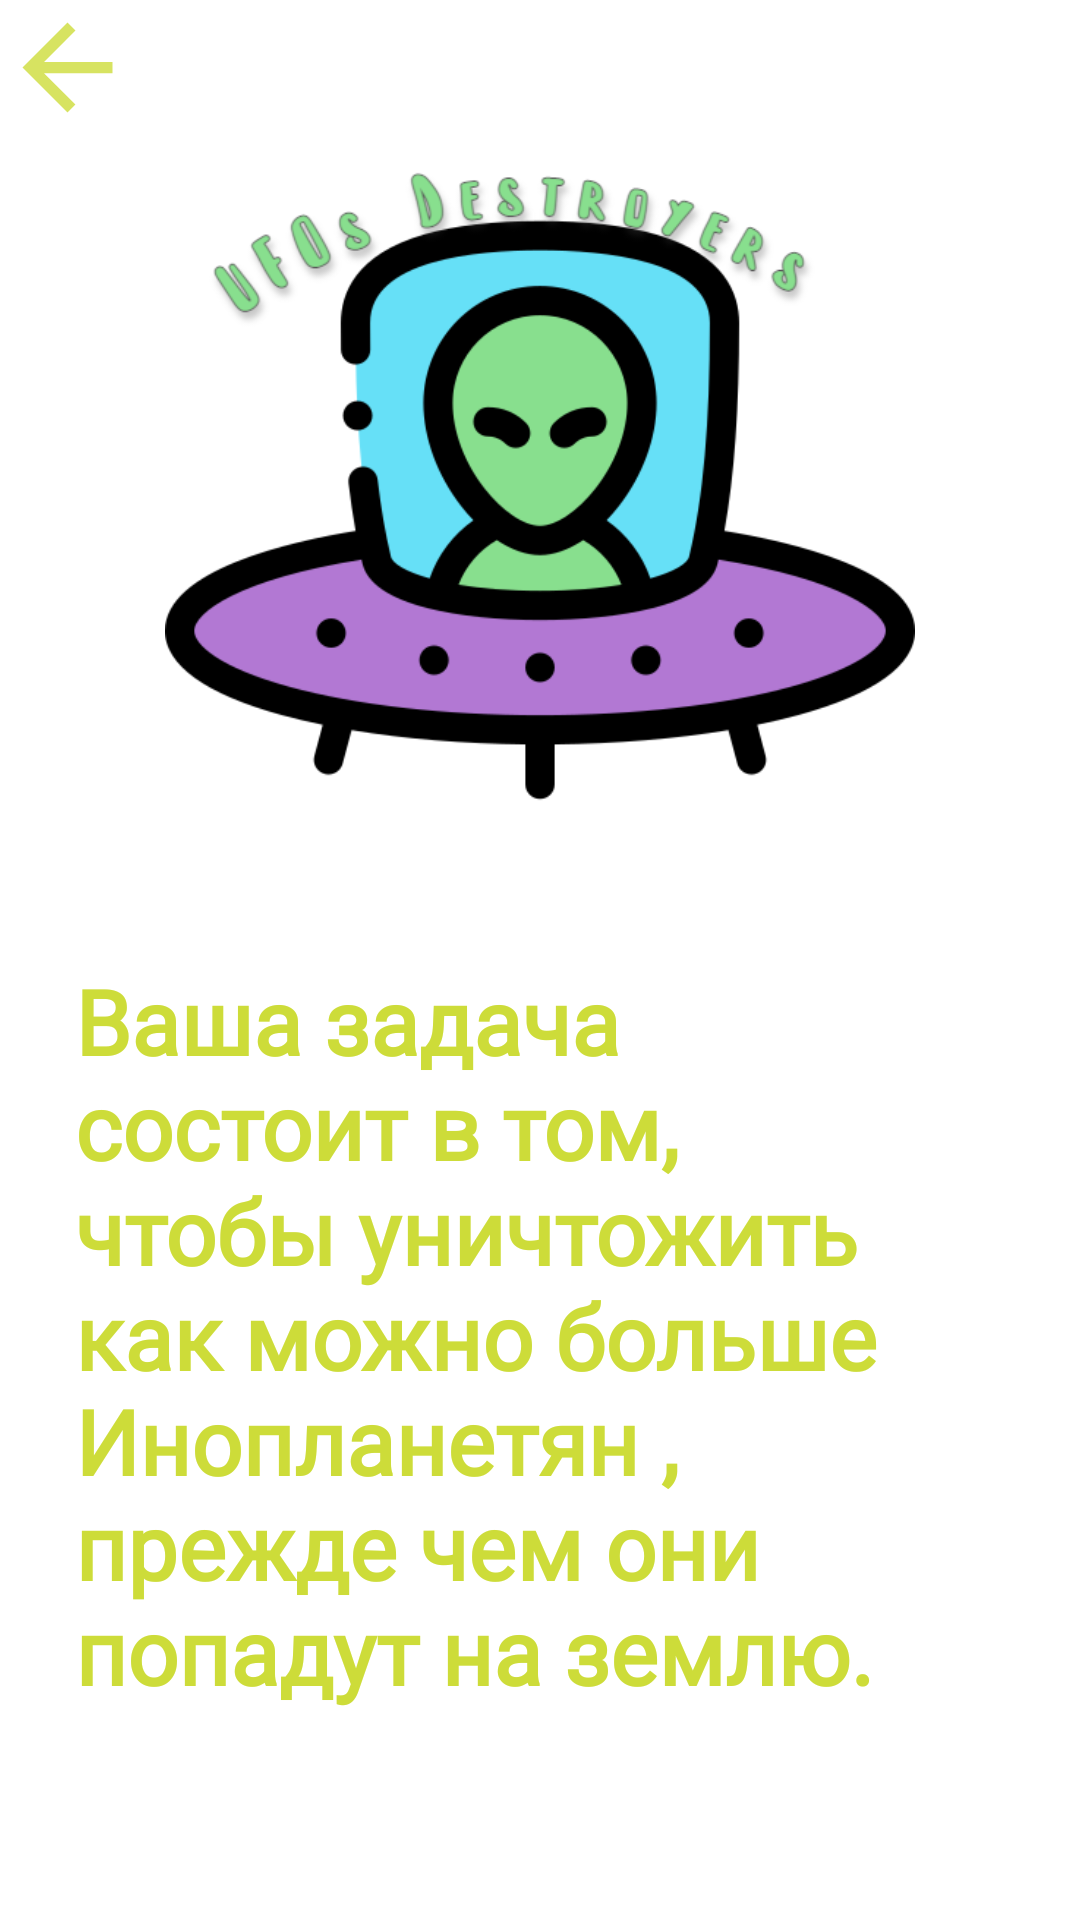

Screen size 1080px x 1920px. Icon name, then its center in pixels as [x,y]:
Назад: [67,67]
